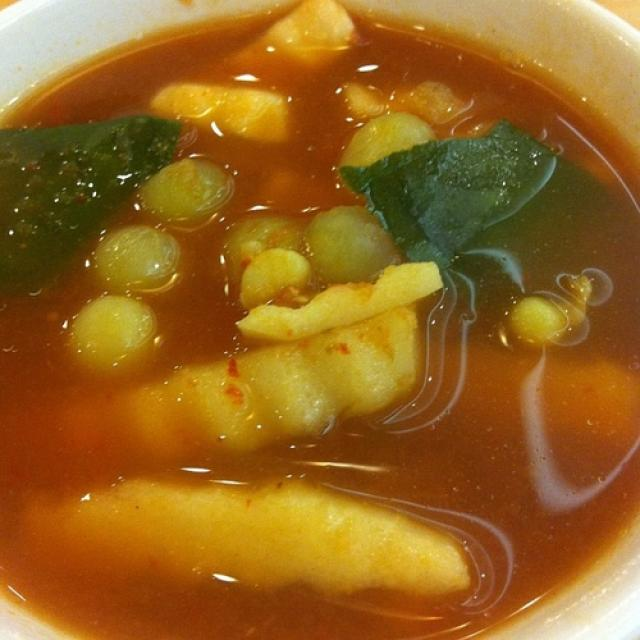汤锅炖物: (9, 13, 631, 628)
